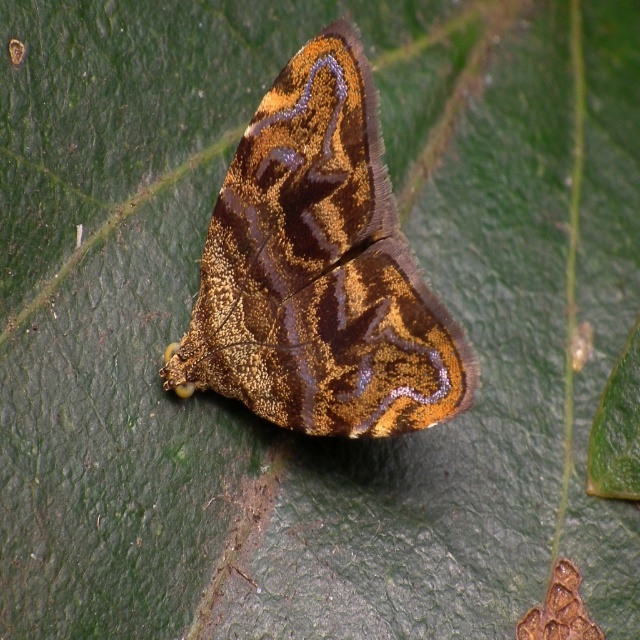Butterfly: (188, 36, 492, 484)
